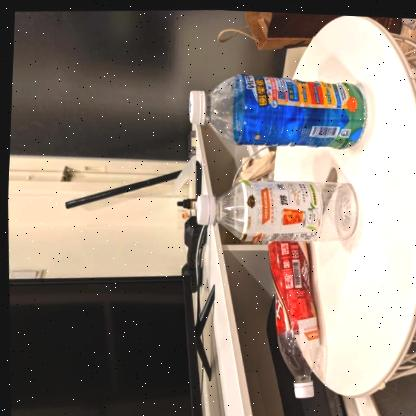Plastic Bottle: (187, 73, 366, 149), (195, 178, 357, 244), (267, 240, 321, 398)
